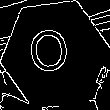O_S: (33, 27, 77, 83)
